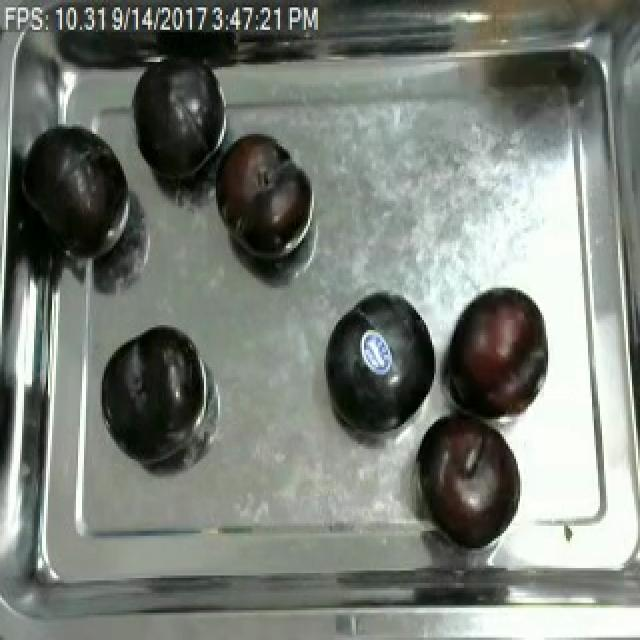Fruit: (316, 280, 444, 442), (16, 109, 144, 266), (200, 124, 316, 268), (414, 404, 522, 551), (118, 52, 232, 191), (444, 283, 552, 427), (98, 320, 206, 464)
